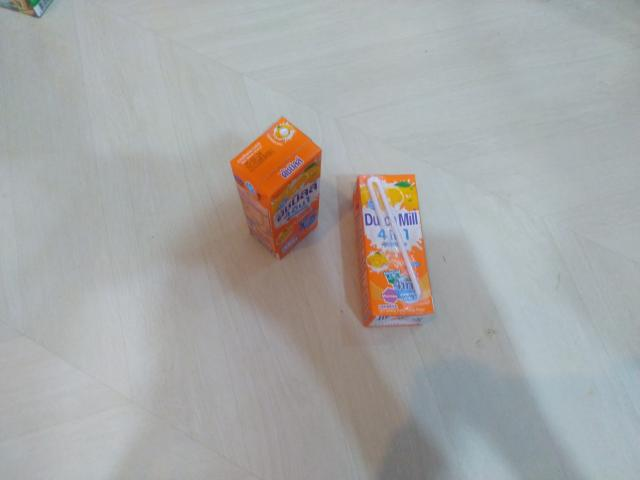drink_box: (221, 113, 337, 266), (350, 171, 440, 337)
